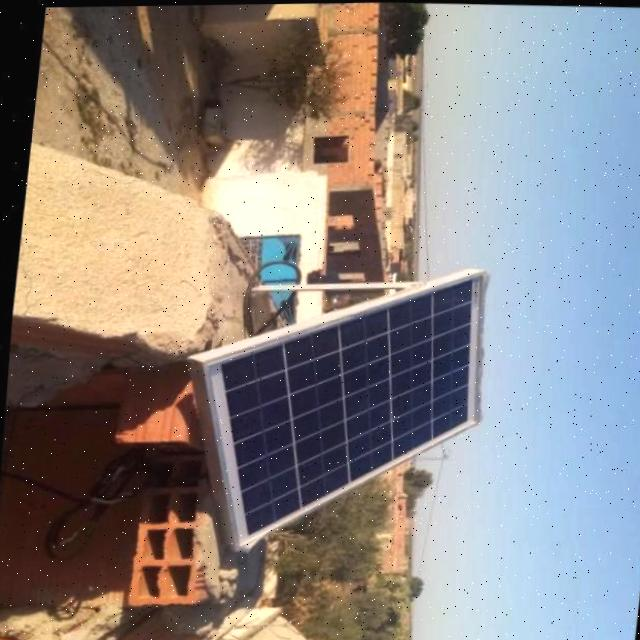Normal Solar Panel: (185, 266, 489, 553)
